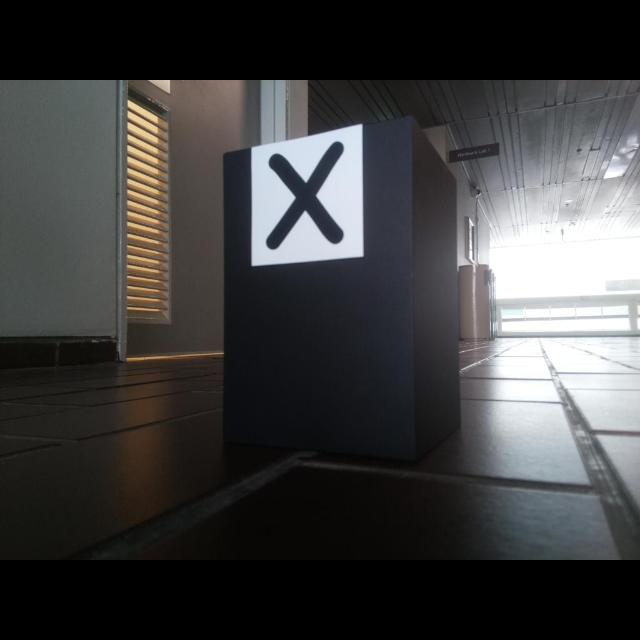X: (267, 141, 344, 250)
